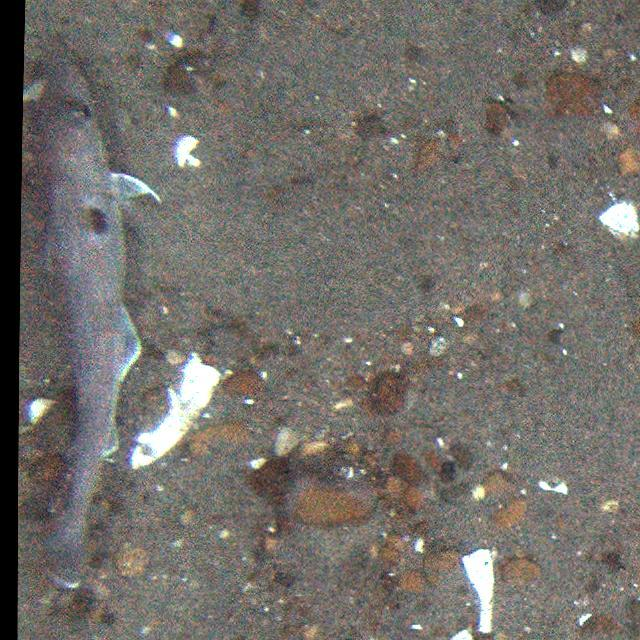roundfish: (25, 56, 153, 594)
